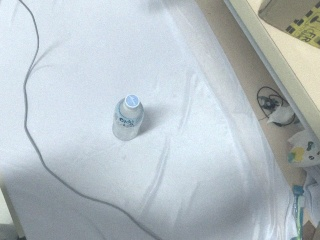bottle: (111, 94, 146, 141)
